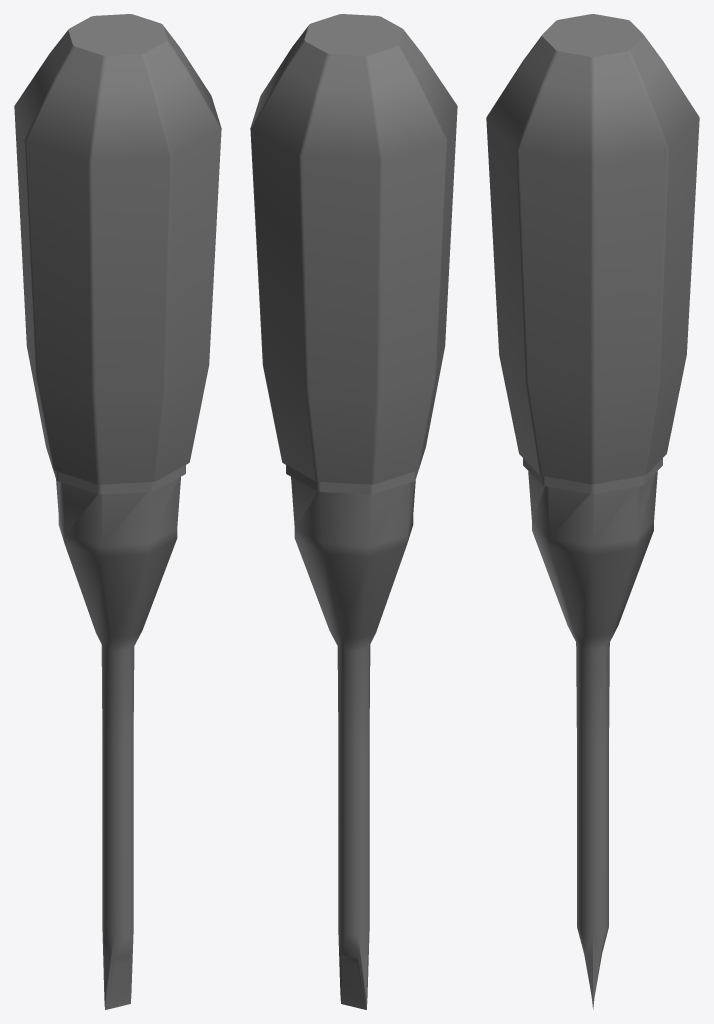
The model's file is StraightElevator_Model.fbx.
3 views of the same model, side by side, from view 1: azimuth 30°, elevation 25°; view 2: azimuth 150°, elevation 25°; view 3: azimuth 270°, elevation 25° (orthographic).
Visible parts, largest first — view 1: StraightElevator1; view 2: StraightElevator1; view 3: StraightElevator1.
Boxes of the visible parts, x1,y1,x2,y2 form: StraightElevator1: [14, 14, 221, 1009]; StraightElevator1: [250, 14, 457, 1009]; StraightElevator1: [486, 14, 699, 1009].
Bounding box in the file's own units: 2.36 × 11.8 × 2.36.
